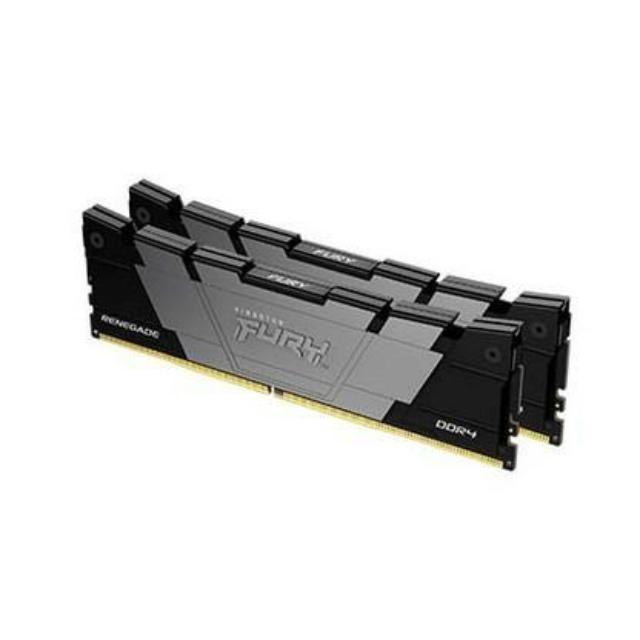RAM: (72, 179, 586, 476)
